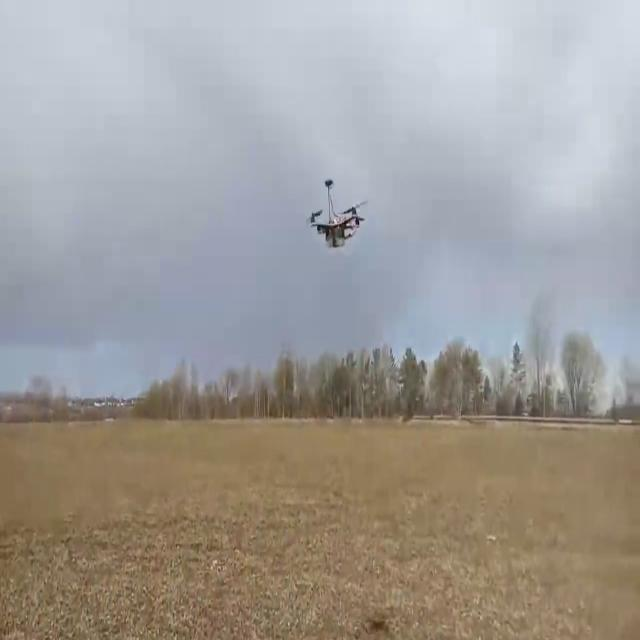Drons: (296, 174, 370, 258)
